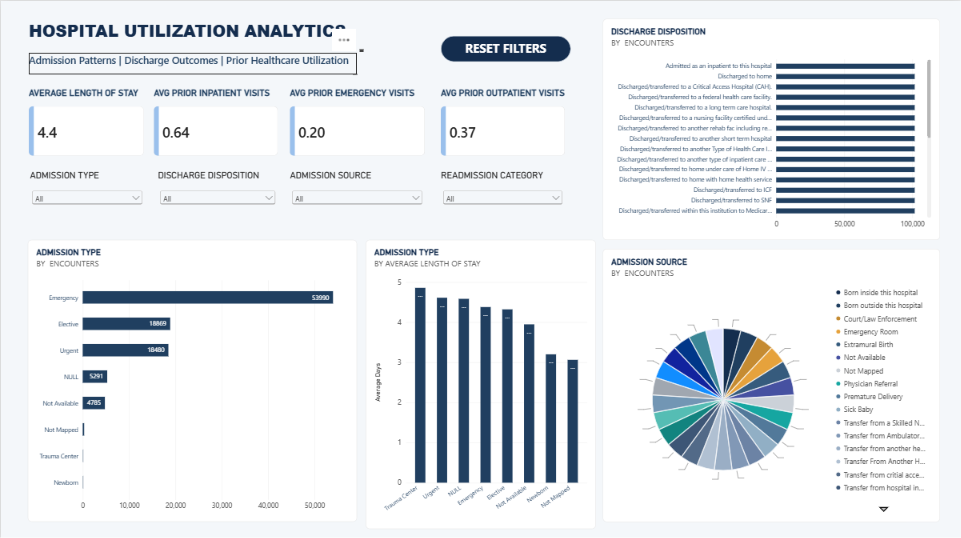

The page's visual inventory and layout, read from the dashboard file:
{"tool":"powerbi","page":{"name":"03. Hospital Utilization","canvas":[1920,1080],"ordinal":2},"visuals":[{"type":"textbox","title":"HOSPITAL UTILIZATION ANALYTICS","box":[55.2,36.8,669.9,66.3],"z":0},{"type":"textbox","title":"Admission Patterns | Discharge Outcomes | Prior Healthcare Utilization","box":[55.2,103.1,657.1,44.2],"z":1000},{"type":"cardVisual","title":"AVERAGE LENGTH OF STAY","fields":{"Data":["Measure.Average Length of Stay"]},"box":[56,174,230.1,136.2],"z":2000},{"type":"cardVisual","title":"AVG PRIOR INPATIENT VISITS","fields":{"Data":["Measure.Average prior Inpatient Visit"]},"box":[306,174,248.5,136.2],"z":3000},{"type":"cardVisual","title":"AVG PRIOR EMERGENCY VISITS","fields":{"Data":["Measure.Average Prior Emergency Visits"]},"box":[578,174,270.6,136.2],"z":4000},{"type":"cardVisual","title":"AVG PRIOR OUTPATIENT VISITS","fields":{"Data":["Measure.Average Prior Outpatient Visits"]},"box":[880,174,248.5,136.2],"z":5000},{"type":"clusteredBarChart","title":"ADMISSION TYPE","fields":{"Category":["Dim_Admission_Type.description"],"Y":["CountNonNull(Fact_Encounters.encounter_id)"]},"box":[54,478,658,564],"z":6000},{"type":"barChart","title":" DISCHARGE DISPOSITION","fields":{"Category":["Dim_Discharge.description"],"Y":["CountNonNull(Fact_Encounters.encounter_id)"]},"box":[1204,36,674,442],"z":7000},{"type":"pieChart","title":"ADMISSION SOURCE","fields":{"Category":["Dim_Admission_Source.description"],"Y":["CountNonNull(Fact_Encounters.encounter_id)"]},"box":[1204,496,674,546],"z":8000},{"type":"clusteredColumnChart","title":" ADMISSION TYPE","fields":{"Category":["Dim_Admission_Type.description"],"Y":["Avg(Fact_Encounters.time_in_hospital)"]},"box":[730,478,460,578],"z":9000},{"type":"slicer","title":"ADMISSION TYPE","fields":{"Values":["Dim_Admission_Type.description"]},"box":[58,338,230,84],"z":10000},{"type":"slicer","title":"DISCHARGE DISPOSITION","fields":{"Values":["Dim_Discharge.description"]},"box":[314,338,240,84],"z":11000},{"type":"slicer","title":"ADMISSION SOURCE","fields":{"Values":["Dim_Admission_Source.description"]},"box":[578,338,270,84],"z":12000},{"type":"slicer","title":"READMISSION CATEGORY","fields":{"Values":["Fact_Encounters.readmitted"]},"box":[880,338,248,84],"z":13000},{"type":"actionButton","box":[880,70,260,52],"z":14000}]}

Visuals, with their boxes in screenshot pixels (x1, y1, x2, y2), scaled from the page's 1920x1080 canvas onto the 961x538 screenshot:
"HOSPITAL UTILIZATION ANALYTICS" textbox: x1=28, y1=18, x2=363, y2=51
"Admission Patterns | Discharge Outcomes | Prior Healthcare Utilization" textbox: x1=28, y1=51, x2=357, y2=73
"AVERAGE LENGTH OF STAY" cardVisual: x1=28, y1=87, x2=143, y2=155
"AVG PRIOR INPATIENT VISITS" cardVisual: x1=153, y1=87, x2=278, y2=155
"AVG PRIOR EMERGENCY VISITS" cardVisual: x1=289, y1=87, x2=425, y2=155
"AVG PRIOR OUTPATIENT VISITS" cardVisual: x1=440, y1=87, x2=565, y2=155
"ADMISSION TYPE" clusteredBarChart: x1=27, y1=238, x2=356, y2=519
" DISCHARGE DISPOSITION" barChart: x1=603, y1=18, x2=940, y2=238
"ADMISSION SOURCE" pieChart: x1=603, y1=247, x2=940, y2=519
" ADMISSION TYPE" clusteredColumnChart: x1=365, y1=238, x2=596, y2=526
"ADMISSION TYPE" slicer: x1=29, y1=168, x2=144, y2=210
"DISCHARGE DISPOSITION" slicer: x1=157, y1=168, x2=277, y2=210
"ADMISSION SOURCE" slicer: x1=289, y1=168, x2=424, y2=210
"READMISSION CATEGORY" slicer: x1=440, y1=168, x2=565, y2=210
actionButton: x1=440, y1=35, x2=571, y2=61
